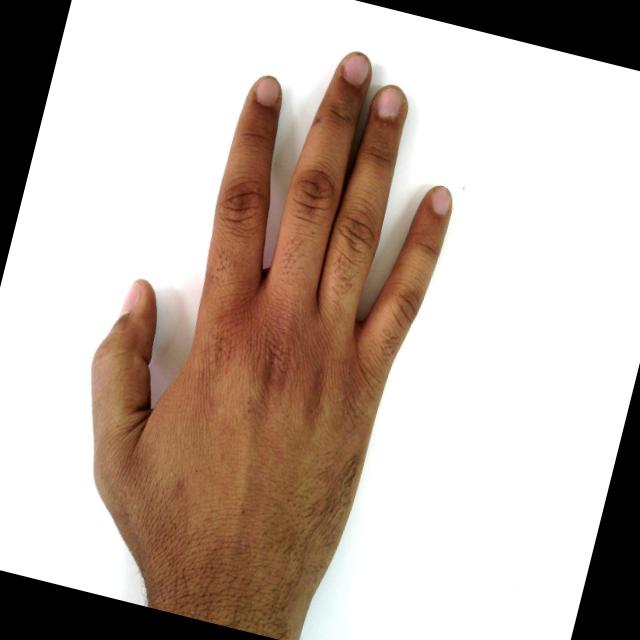Nail: (252, 74, 279, 105), (376, 84, 402, 116), (342, 51, 368, 83), (117, 279, 139, 316), (429, 185, 450, 214)
